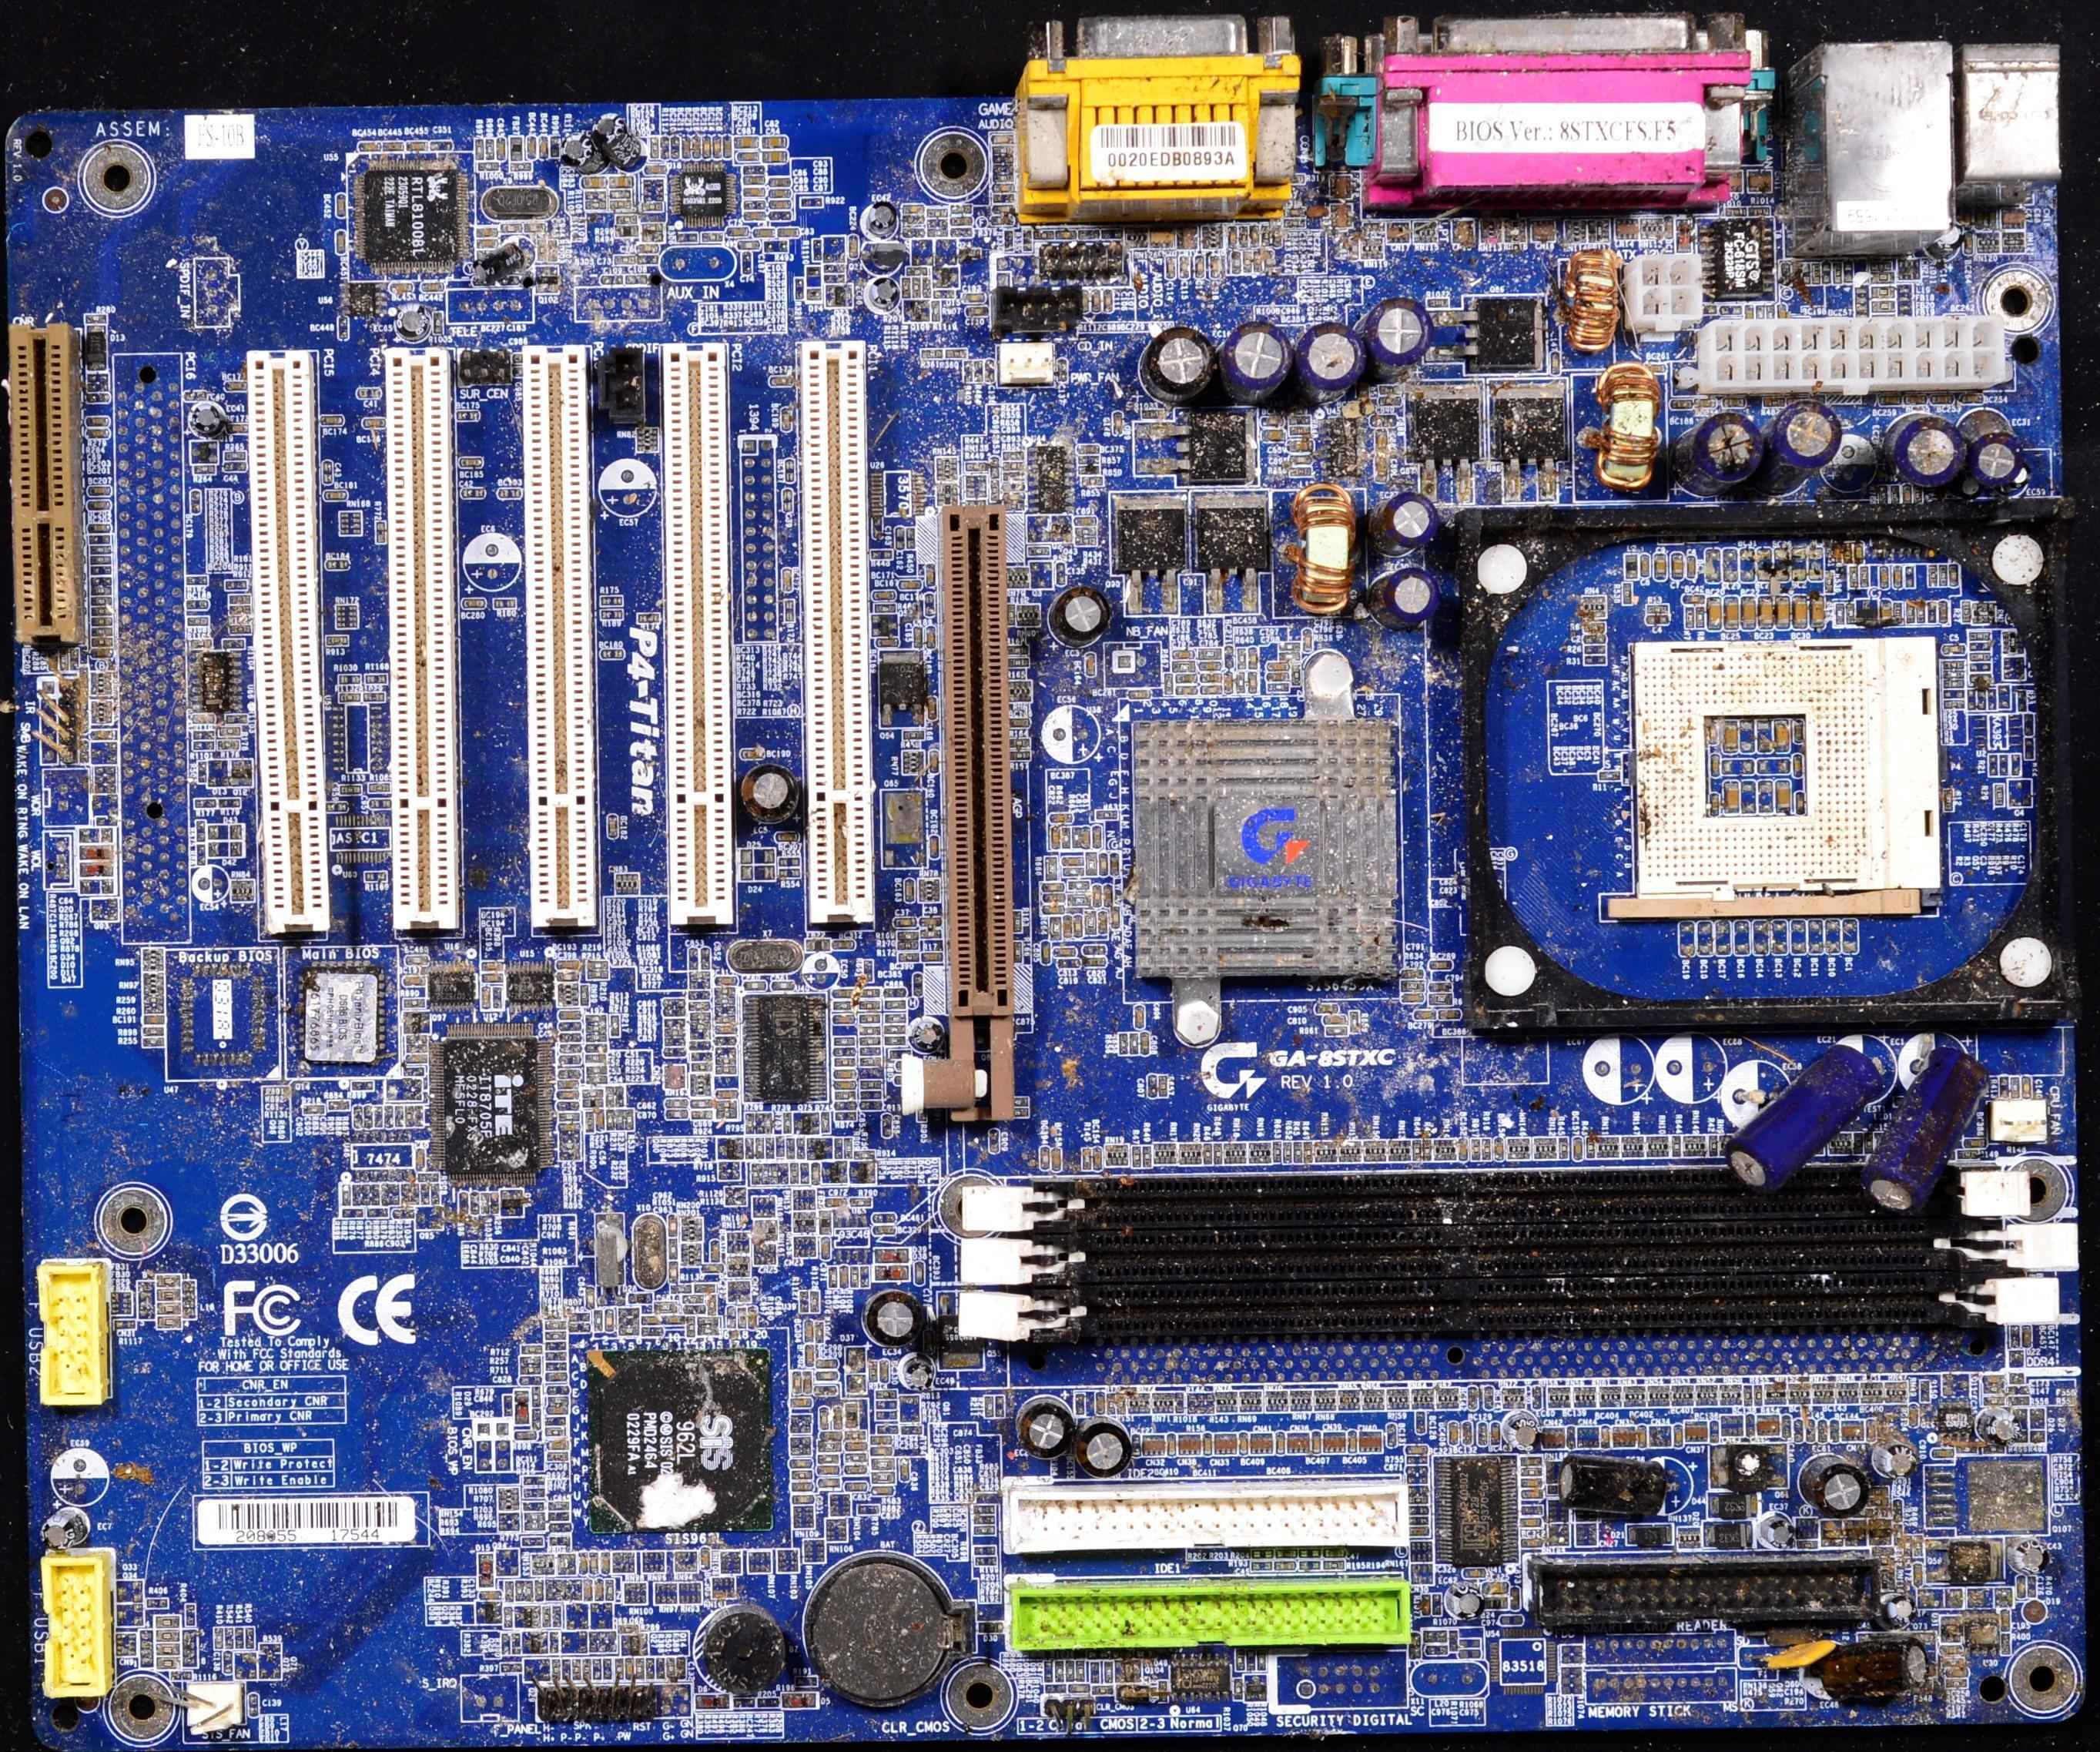Capacitor: (1133, 1003, 1146, 1029), (603, 1307, 618, 1333), (763, 149, 789, 163), (1052, 945, 1076, 957), (791, 1368, 802, 1395), (1039, 939, 1051, 966), (898, 1458, 910, 1483), (601, 1553, 612, 1579), (763, 135, 786, 148), (893, 916, 917, 929), (805, 1321, 816, 1346), (1083, 957, 1107, 970), (1175, 673, 1197, 686), (1080, 944, 1107, 955), (1321, 1014, 1348, 1025), (869, 1447, 895, 1458), (1269, 1560, 1296, 1571), (1145, 1073, 1157, 1098), (481, 1591, 502, 1604), (769, 176, 790, 189), (1199, 661, 1223, 672), (918, 916, 940, 926), (1315, 1003, 1338, 1014), (663, 1315, 685, 1326), (817, 1466, 839, 1477), (1069, 1682, 1091, 1693), (769, 189, 792, 200), (1173, 649, 1194, 660), (1174, 685, 1197, 694), (1140, 1031, 1149, 1057), (86, 417, 111, 427), (826, 1198, 846, 1208), (792, 1396, 812, 1407), (821, 1432, 842, 1441), (869, 1435, 890, 1446), (1325, 1550, 1345, 1559), (1198, 672, 1220, 683), (1201, 685, 1221, 694), (839, 1265, 848, 1289), (806, 1341, 815, 1365), (789, 1483, 813, 1492), (584, 1286, 594, 1306), (90, 486, 109, 495), (818, 1478, 840, 1486), (625, 1658, 635, 1680), (819, 1370, 835, 1382), (1058, 957, 1080, 967), (882, 1360, 889, 1386), (595, 1581, 603, 1603), (848, 1482, 866, 1489), (771, 201, 791, 210), (844, 1443, 867, 1450), (643, 1315, 658, 1325), (872, 1488, 893, 1496), (581, 1553, 588, 1575), (88, 429, 108, 437), (584, 1580, 591, 1600)
Connector: (1357, 0, 1745, 216), (1010, 8, 1301, 249), (522, 346, 613, 939), (789, 335, 876, 926), (246, 351, 333, 930), (380, 350, 466, 933), (659, 342, 738, 930), (1694, 331, 1998, 393)
IC: (587, 1352, 778, 1529), (430, 1021, 559, 1185), (281, 960, 395, 1070), (355, 162, 469, 273), (745, 996, 832, 1109), (1430, 1454, 1517, 1566), (186, 652, 250, 719), (669, 162, 739, 224), (1170, 1652, 1231, 1703), (428, 957, 475, 1014), (509, 963, 555, 1015), (337, 283, 388, 317)
Resistor: (193, 462, 230, 476), (211, 1629, 226, 1653), (1197, 646, 1221, 661), (1250, 1550, 1276, 1561), (581, 1657, 592, 1682), (717, 1168, 740, 1181), (665, 1657, 676, 1680), (1104, 1660, 1116, 1684), (143, 1025, 166, 1036), (520, 1365, 543, 1376), (1234, 1650, 1246, 1672), (226, 449, 248, 461), (91, 598, 113, 608), (1324, 1026, 1350, 1037), (779, 866, 801, 878), (896, 941, 919, 951), (143, 1037, 163, 1048), (1117, 1032, 1127, 1057), (782, 1112, 792, 1135), (1557, 1137, 1570, 1158), (1471, 1137, 1480, 1161), (850, 1198, 873, 1208), (859, 1265, 871, 1289), (1321, 1561, 1347, 1573), (1065, 1660, 1077, 1684), (88, 545, 111, 554), (93, 616, 113, 628), (848, 1450, 866, 1463), (1129, 1033, 1138, 1056), (1422, 1138, 1432, 1161), (1204, 1141, 1214, 1164), (521, 1343, 542, 1354), (518, 1354, 541, 1365), (1274, 1549, 1298, 1558), (800, 196, 822, 208), (1171, 661, 1194, 672), (94, 638, 114, 648), (715, 1160, 742, 1169), (616, 1657, 624, 1682), (1293, 1141, 1303, 1163), (547, 1406, 567, 1416), (1234, 1678, 1244, 1699), (1082, 1146, 1090, 1171), (1251, 1562, 1274, 1571), (1302, 1141, 1314, 1160), (792, 1496, 812, 1506), (778, 857, 800, 866), (1412, 1136, 1422, 1159), (1274, 1138, 1282, 1160), (1282, 1141, 1291, 1164), (828, 1266, 838, 1290), (850, 1266, 859, 1290), (872, 1474, 894, 1482), (1257, 1647, 1267, 1670), (572, 1659, 581, 1683), (1057, 1660, 1065, 1683), (896, 931, 918, 941), (1214, 1143, 1222, 1164), (547, 1441, 566, 1450), (874, 1460, 894, 1469), (791, 1471, 812, 1480), (635, 1657, 643, 1679), (1077, 1659, 1086, 1681), (86, 313, 106, 323), (92, 628, 114, 636), (898, 953, 918, 962), (819, 1456, 839, 1464), (1131, 1144, 1139, 1167), (1143, 1145, 1150, 1168), (1299, 1549, 1321, 1557), (552, 1660, 561, 1683), (1482, 1138, 1490, 1158), (91, 558, 112, 565), (91, 588, 112, 595), (535, 1579, 541, 1603)
Transistor: (1245, 1673, 1266, 1701)
